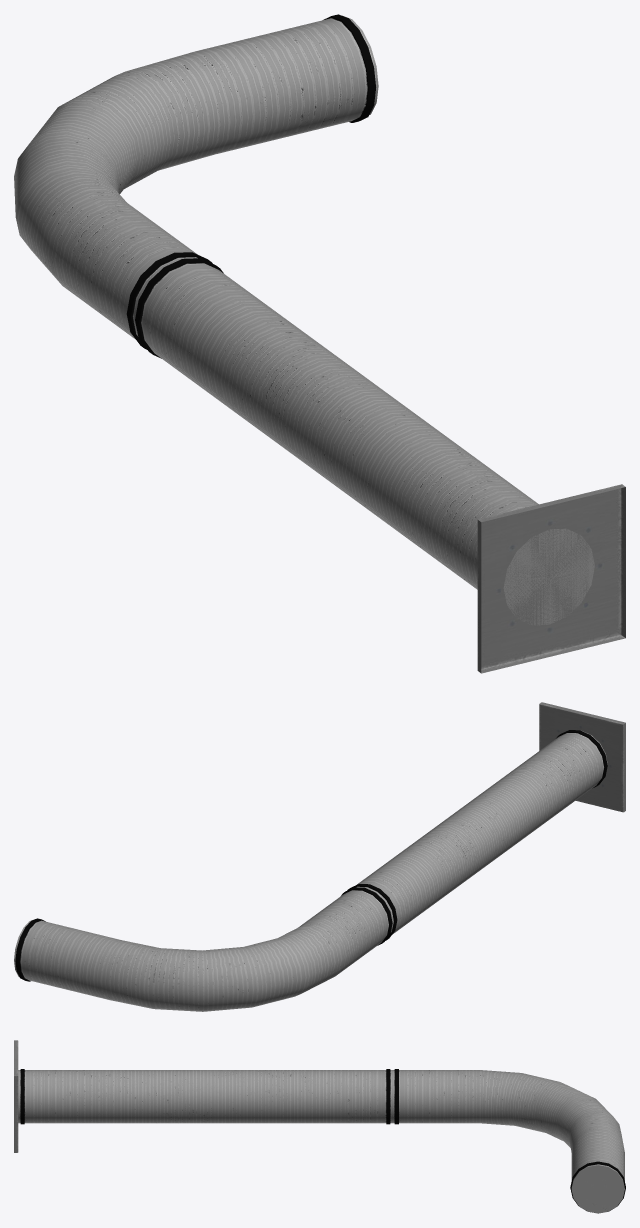
The picture shows the model from 3 angles, top to bottom: view 1: azimuth 30°, elevation 25°; view 2: azimuth 150°, elevation 25°; view 3: azimuth 270°, elevation 25°; orthographic projection. The views are drawn at different scales.
Visible parts, largest first — view 1: Bend_Low, Straight_Low, WallThing_Low; view 2: Bend_Low, Straight_Low, WallThing_Low; view 3: Straight_Low, Bend_Low, WallThing_Low.
Part boxes in pixels (x1,y1,x2,y2): Bend_Low: (14,14,378,349); Straight_Low: (134,258,594,625); WallThing_Low: (477,484,625,673); Bend_Low: (14,887,392,1011); Straight_Low: (347,730,607,940); WallThing_Low: (539,702,625,812); Straight_Low: (18,1069,392,1124); Bend_Low: (392,1069,625,1213); WallThing_Low: (14,1040,18,1152).
Size of the model in its own units: 121 by 39.26 by 284.
Materials: 1 (1 with a texture image).
